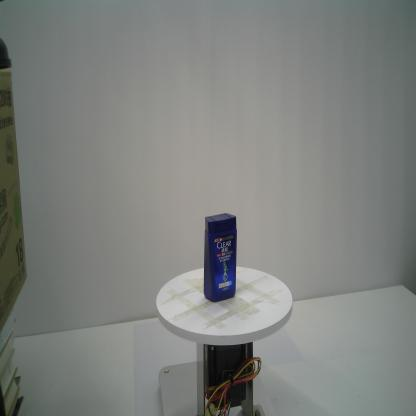Personal Hygiene: (202, 211, 239, 303)
